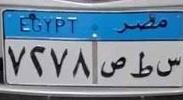2: (29, 44, 47, 80)
7: (6, 42, 26, 81), (49, 46, 68, 81)
8: (71, 47, 90, 82)
Taa: (129, 49, 154, 83)
saad: (99, 52, 127, 82)
seen: (153, 51, 182, 83)
